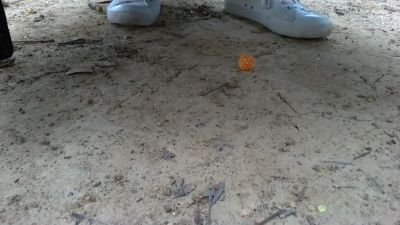eggs: (237, 47, 259, 73)
